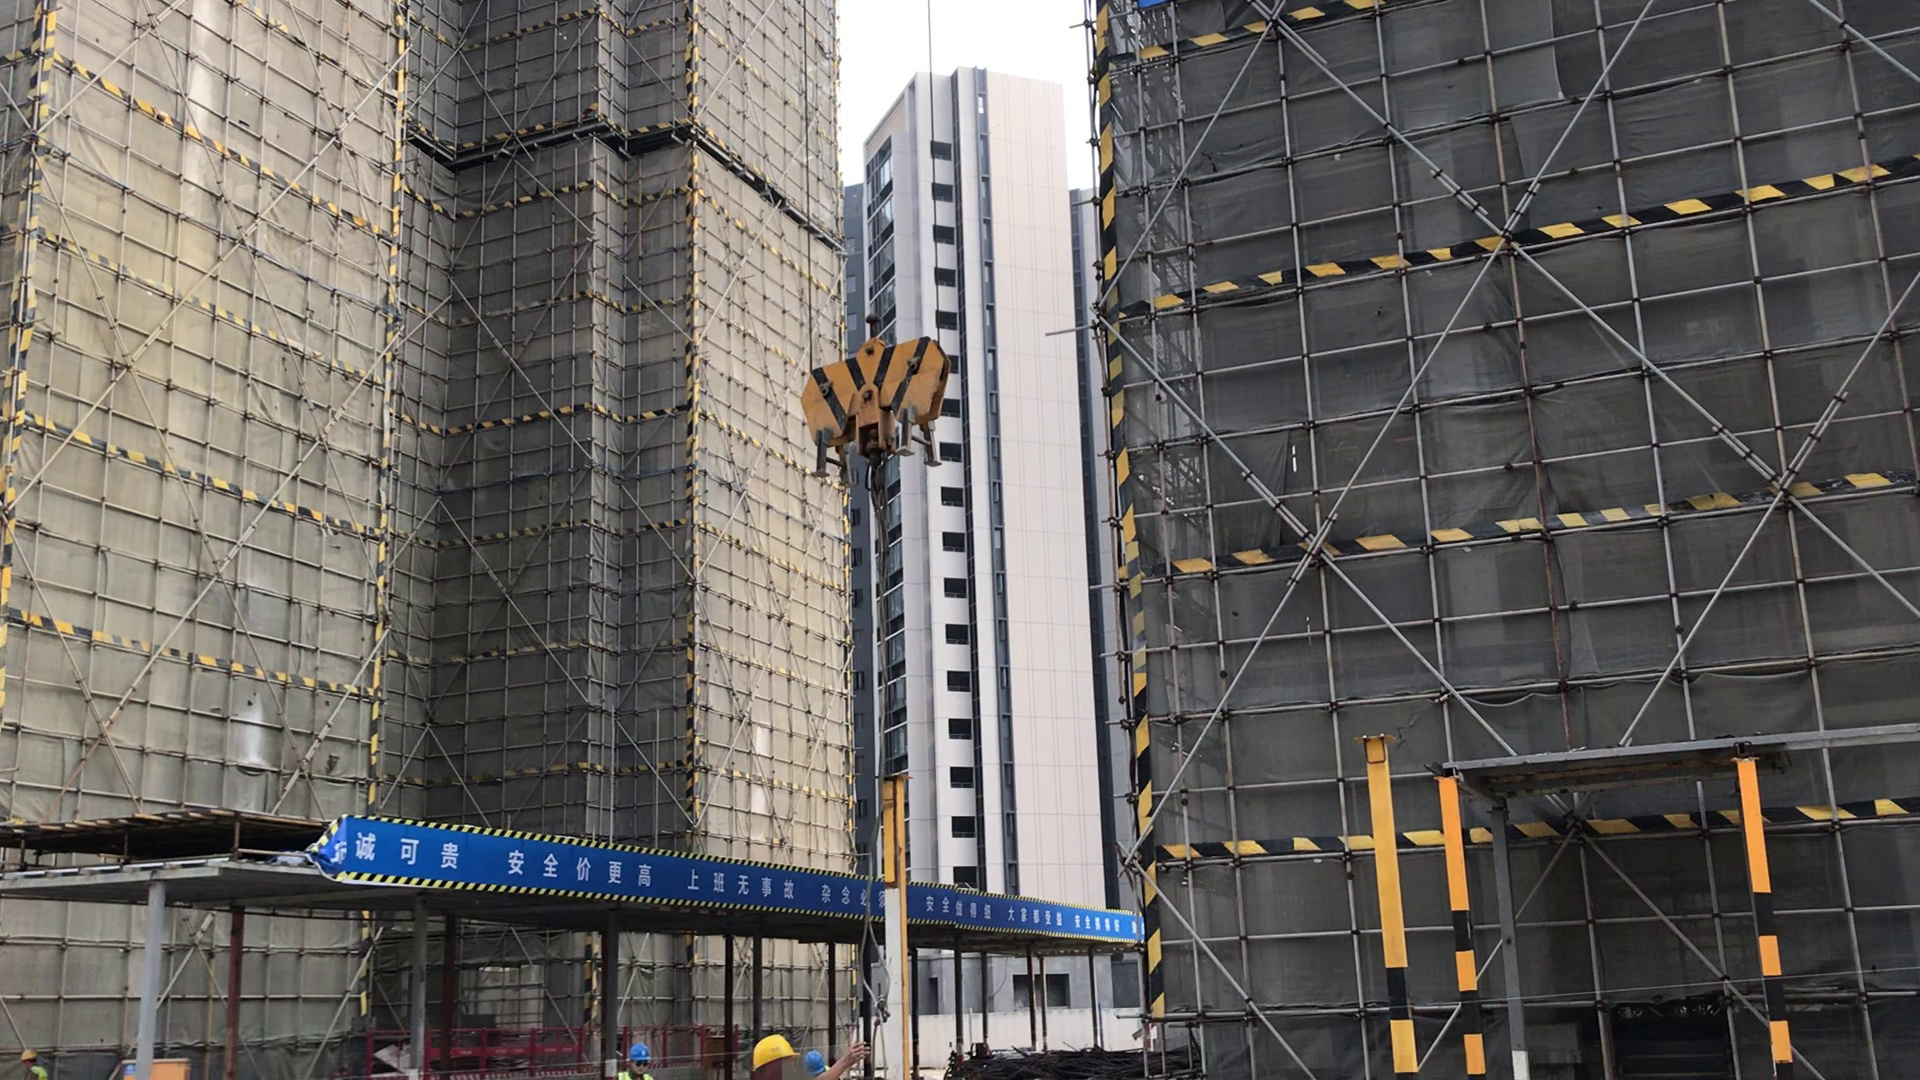fence: (363, 1027, 752, 1080)
helmet: (746, 1035, 799, 1069), (804, 1048, 824, 1073), (626, 1040, 650, 1060)
hook: (800, 316, 952, 493)
slogan: (328, 818, 1142, 943)
